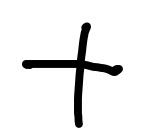plus: (20, 22, 123, 127)
